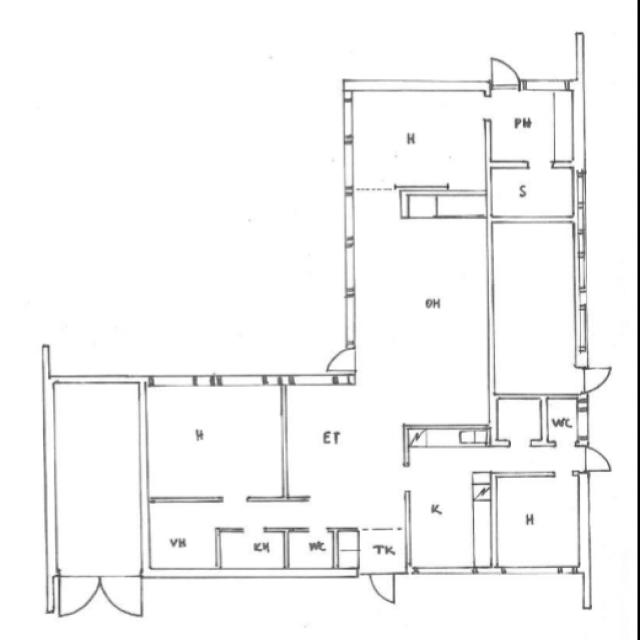door: (99, 568, 139, 616), (60, 568, 99, 616), (496, 56, 522, 91), (368, 568, 394, 601), (576, 367, 611, 391), (318, 348, 352, 372), (576, 447, 610, 470)
